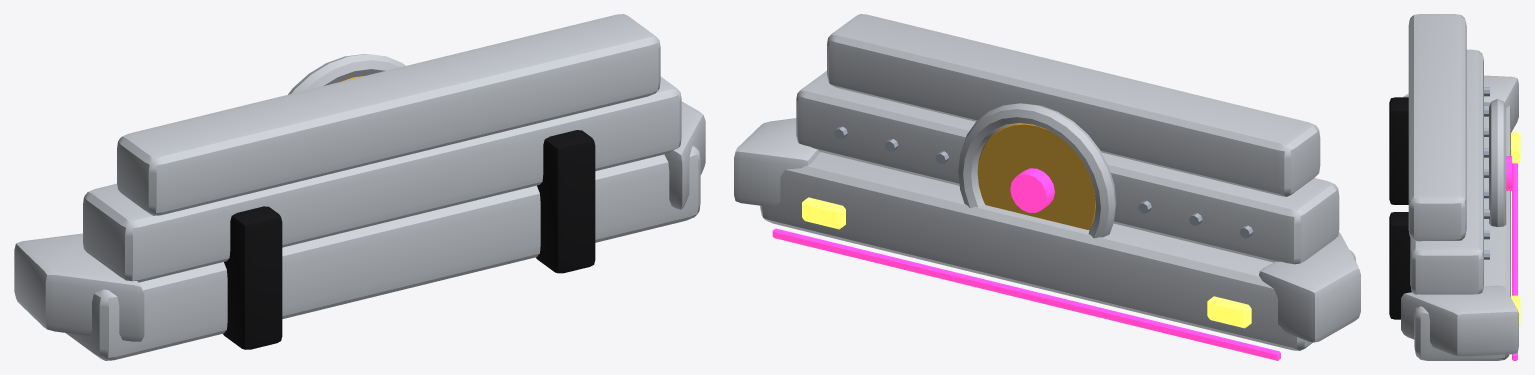
Rendered from fb_ornate_steps.glb.
3 renders of one model, left to right at view 1: azimuth 30°, elevation 25°; view 2: azimuth 150°, elevation 25°; view 3: azimuth 270°, elevation 25°, orthographic. The views are drawn at different scales.
Parts seen in each view (by area): view 1: chrome, plastic_black; view 2: chrome, paint_gold, lamp_pink, lamp_amber, steel; view 3: chrome, plastic_black, lamp_pink, steel, lamp_amber.
Boxes of the visible parts, x1,y1,x2,y2 form: chrome: [14, 14, 705, 360]; plastic_black: [223, 130, 595, 349]; chrome: [734, 14, 1360, 350]; paint_gold: [977, 123, 1095, 229]; lamp_pink: [772, 168, 1280, 360]; lamp_amber: [802, 197, 1251, 328]; steel: [834, 126, 1252, 238]; chrome: [1401, 14, 1518, 360]; plastic_black: [1389, 97, 1411, 319]; lamp_pink: [1506, 156, 1517, 360]; steel: [1484, 87, 1489, 259]; lamp_amber: [1511, 132, 1520, 325].
Bounding box in the file's own units: 2.95 × 0.88 × 0.68.
